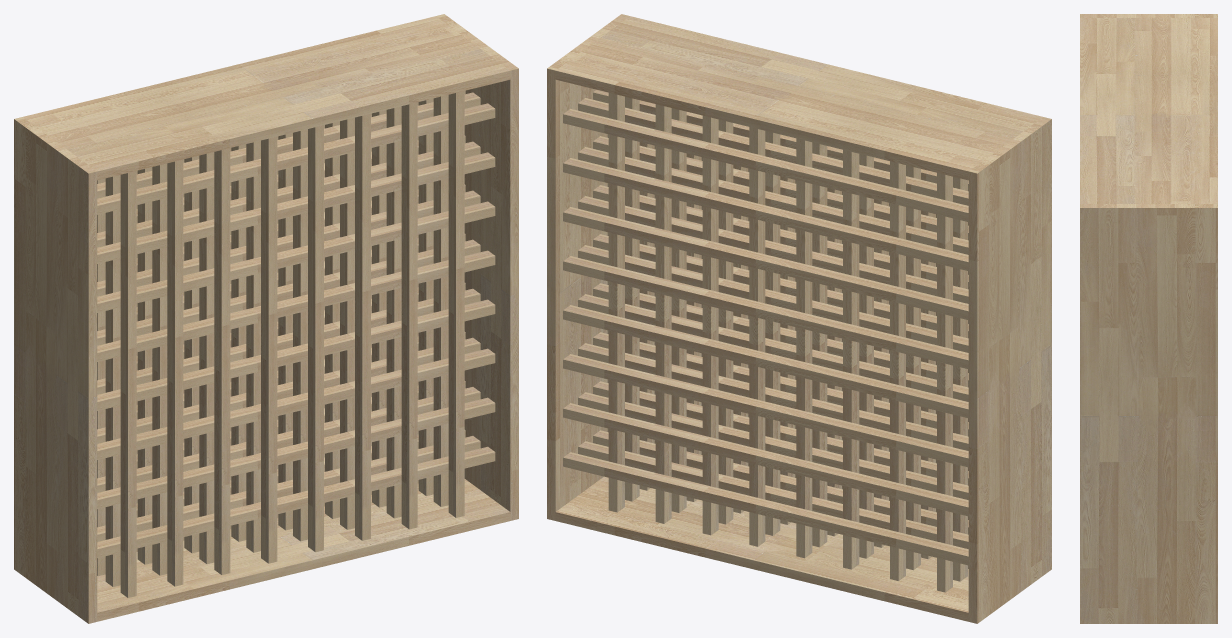
3 views of the same model, side by side, from view 1: azimuth 30°, elevation 25°; view 2: azimuth 150°, elevation 25°; view 3: azimuth 270°, elevation 25° (orthographic). The views are drawn at different scales.
Visible parts, largest first — view 1: Korpus side.005, Korpus bund_top.003, Korpus side.004, Korpus bund_top.002, Lamel.059, Lamel.061, Lamel.058, Lamel.060, Lamel.062, Lamel.063, Lamel.057, Lamel.056 (+32 smaller); view 2: Korpus side.005, Korpus bund_top.003, Korpus bund_top.002, Korpus side.004, Lamel.113, Lamel.114, Lamel.119, Lamel.115, Lamel.116, Lamel.118, Lamel.117, Lamel.112 (+32 smaller); view 3: Korpus side.004, Korpus bund_top.003, Korpus side.005.
Boxes of the visible parts, x1,y1,x2,y2 form: Korpus side.005: (14,117,97,623); Korpus bund_top.003: (23,16,510,180); Korpus side.004: (436,14,518,520); Korpus bund_top.002: (97,479,510,621); Lamel.059: (261,136,277,563); Lamel.061: (401,102,417,529); Lamel.058: (167,159,183,586); Lamel.060: (214,148,230,574); Lamel.062: (448,91,464,517); Lamel.063: (120,171,136,597); Lamel.057: (355,113,370,540); Lamel.056: (308,125,323,552); Korpus side.005: (968,117,1051,623); Korpus bund_top.003: (555,16,1042,180); Korpus bund_top.002: (555,476,968,621); Korpus side.004: (547,14,629,520); Lamel.113: (563,354,968,467); Lamel.114: (563,403,968,516); Lamel.119: (563,452,968,565); Lamel.115: (563,305,968,418); Lamel.116: (563,109,968,221); Lamel.118: (563,207,968,320); Lamel.117: (563,158,968,270); Lamel.112: (563,256,968,369); Korpus side.004: (1080,204,1217,623); Korpus bund_top.003: (1080,18,1217,203); Korpus side.005: (1080,14,1217,17).
Size of the model in its own units: 1 by 1 by 0.3.
Materials: 1 (1 with a texture image).
